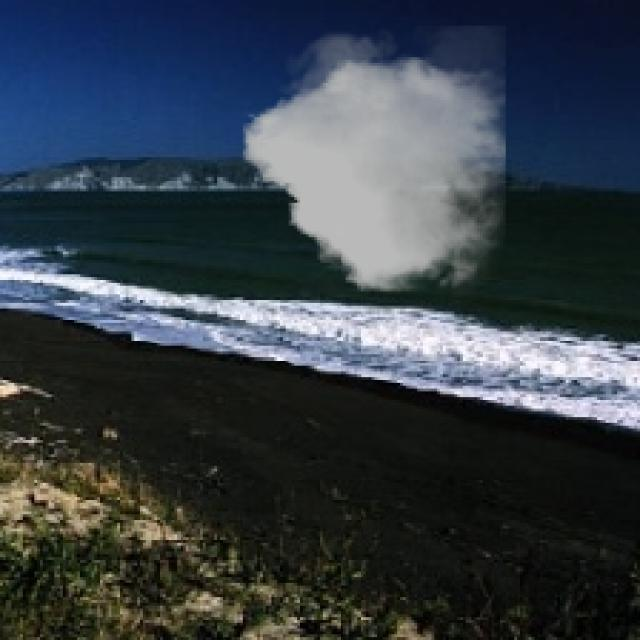smoke: (243, 26, 506, 297)
